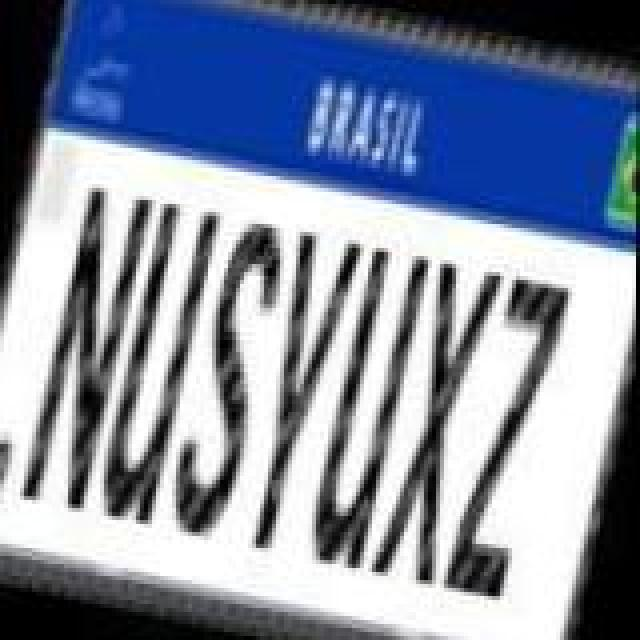N: (14, 174, 154, 514)
S: (158, 206, 294, 546)
U: (88, 192, 220, 532), (302, 240, 434, 580)
X: (366, 250, 506, 590)
Y: (230, 224, 366, 560)
Z: (436, 264, 568, 604)
